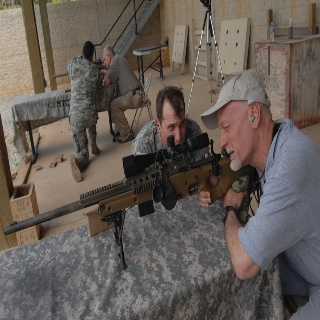rifle: (4, 131, 261, 270)
